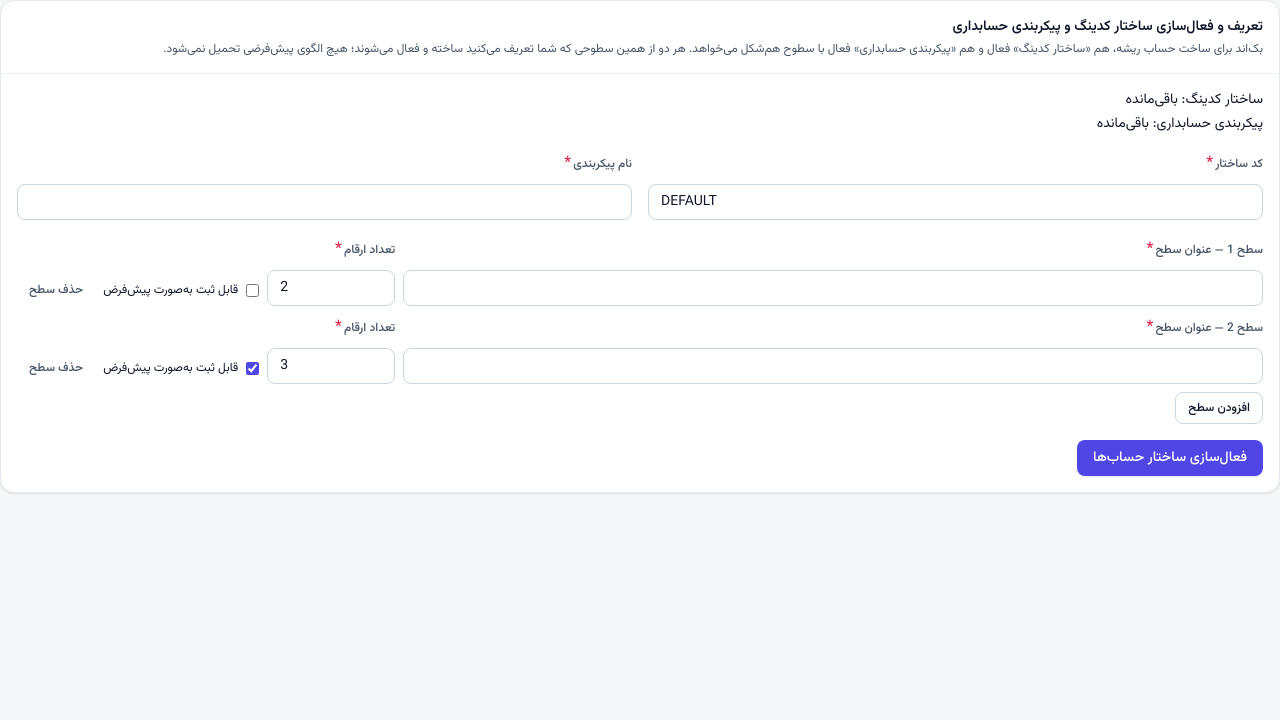
ChartSetupForm postable-default guardrails › warns when NO level defaults to postable
The image size is (1280, 720).
Click the 2nd checkbox labelled "قابل ثبت به‌صورت پیش‌فرض" at (253, 368), box [246,362,259,374]
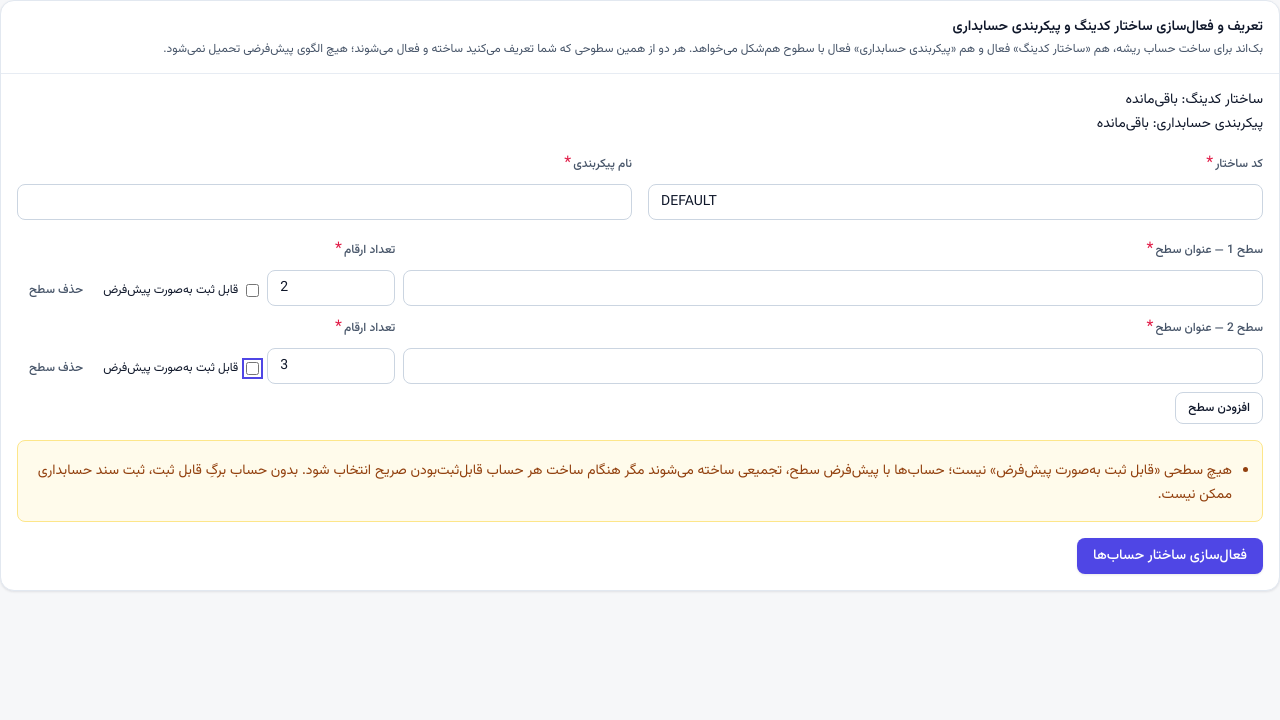
Result: the list item "هیچ سطحی «قابل ثبت به‌صورت پیش‌فرض» نیست؛ حساب‌ها با پیش‌فرض سطح، تجمیعی ساخته می‌شوند مگر هنگام ساخت هر حساب قابل‌ثبت‌ب" is shown at [38,460,1232,506]
